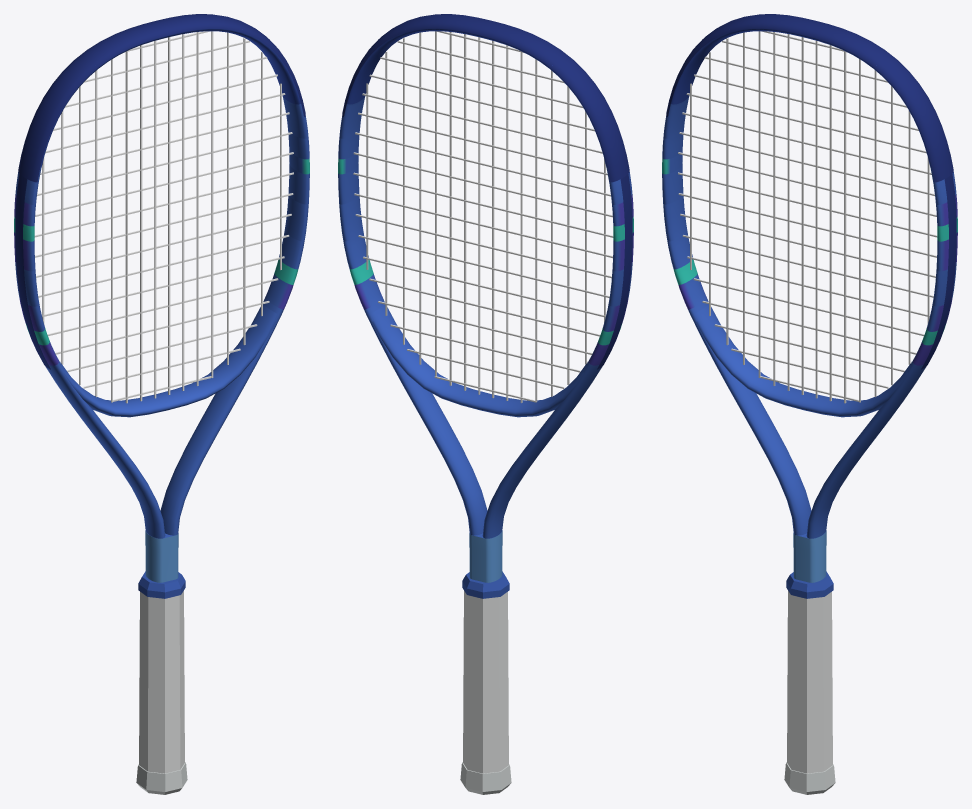
Rendered from yonex-ezone-110-2025.glb.
The picture shows the model from 3 angles, left to right: view 1: azimuth 30°, elevation 25°; view 2: azimuth 150°, elevation 25°; view 3: azimuth 330°, elevation 25°; orthographic projection.
Visible parts, largest first — view 1: frame, strings_mains, strings_crosses, grip, bumper, grommets, butt_cap, collar; view 2: frame, strings_mains, strings_crosses, grip, bumper, grommets, butt_cap, collar; view 3: frame, strings_mains, strings_crosses, grip, bumper, grommets, butt_cap, collar.
Boxes of the visible parts, left/top/right/bottom form: frame: left=14, top=28, right=309, bottom=582; strings_mains: left=42, top=31, right=281, bottom=403; strings_crosses: left=34, top=31, right=293, bottom=401; grip: left=139, top=591, right=184, bottom=773; bumper: left=18, top=14, right=305, bottom=182; grommets: left=15, top=174, right=50, bottom=369; butt_cap: left=136, top=762, right=187, bottom=794; collar: left=138, top=571, right=185, bottom=598; frame: left=338, top=28, right=633, bottom=582; strings_mains: left=366, top=31, right=605, bottom=402; strings_crosses: left=353, top=31, right=613, bottom=402; grip: left=463, top=591, right=508, bottom=773; bumper: left=342, top=14, right=629, bottom=182; grommets: left=597, top=174, right=632, bottom=369; butt_cap: left=460, top=762, right=511, bottom=794; collar: left=462, top=571, right=509, bottom=598; frame: left=662, top=28, right=957, bottom=582; strings_mains: left=690, top=31, right=929, bottom=403; strings_crosses: left=678, top=31, right=937, bottom=401; grip: left=787, top=591, right=832, bottom=773; bumper: left=666, top=14, right=953, bottom=182; grommets: left=921, top=174, right=956, bottom=369; butt_cap: left=784, top=762, right=835, bottom=794; collar: left=786, top=571, right=833, bottom=598.
Bounding box in the file's own units: 0.2754 × 0.6988 × 0.0396.
